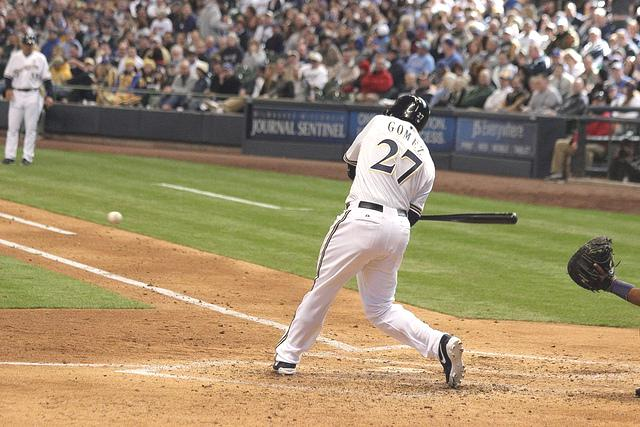ball: (107, 210, 123, 224)
bat: (417, 210, 519, 226)
